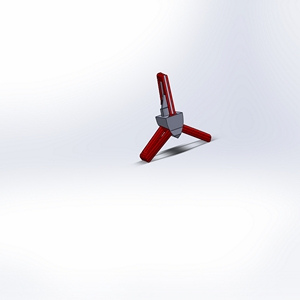submarine: (121, 63, 228, 165)
